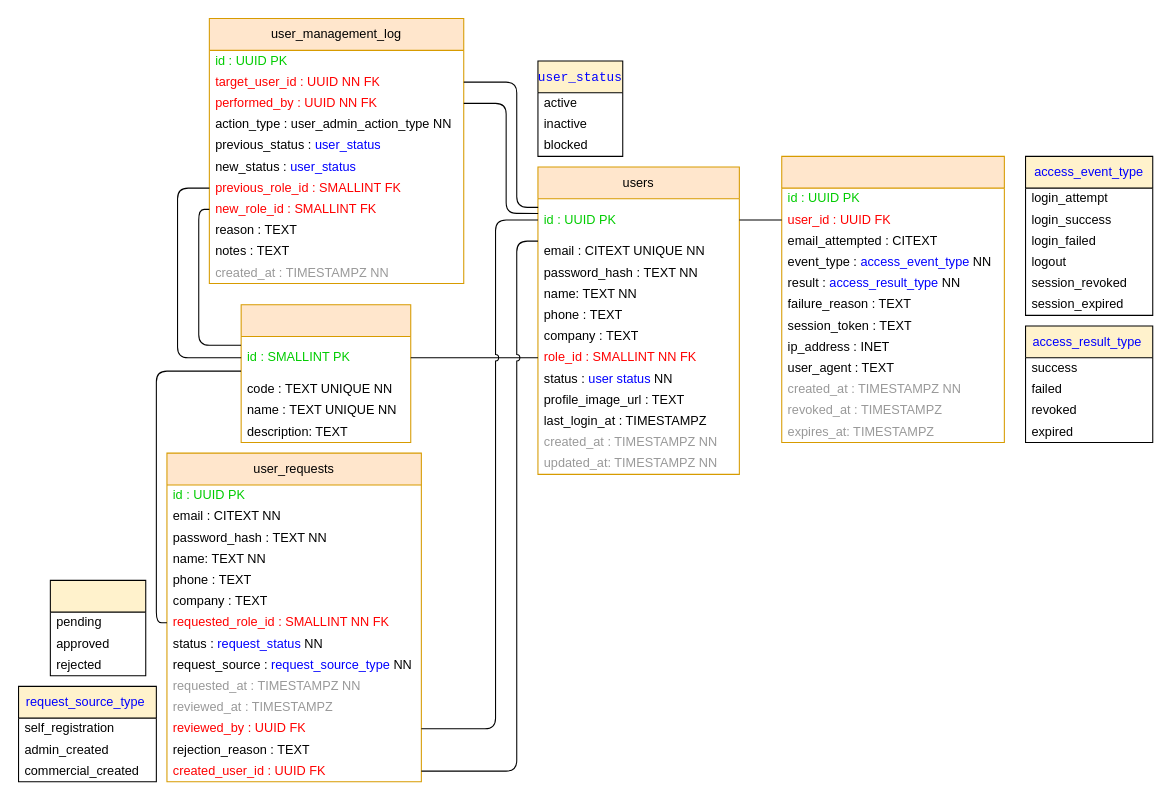
Image size: 1171x800. Some labels were removed from this diagram. The box of each missing label's shape, as (x1, y1, x2, y2) in pixels:
request_status: (49, 579, 146, 676)
roles: (240, 304, 411, 443)
user_access_log: (781, 155, 1004, 443)
